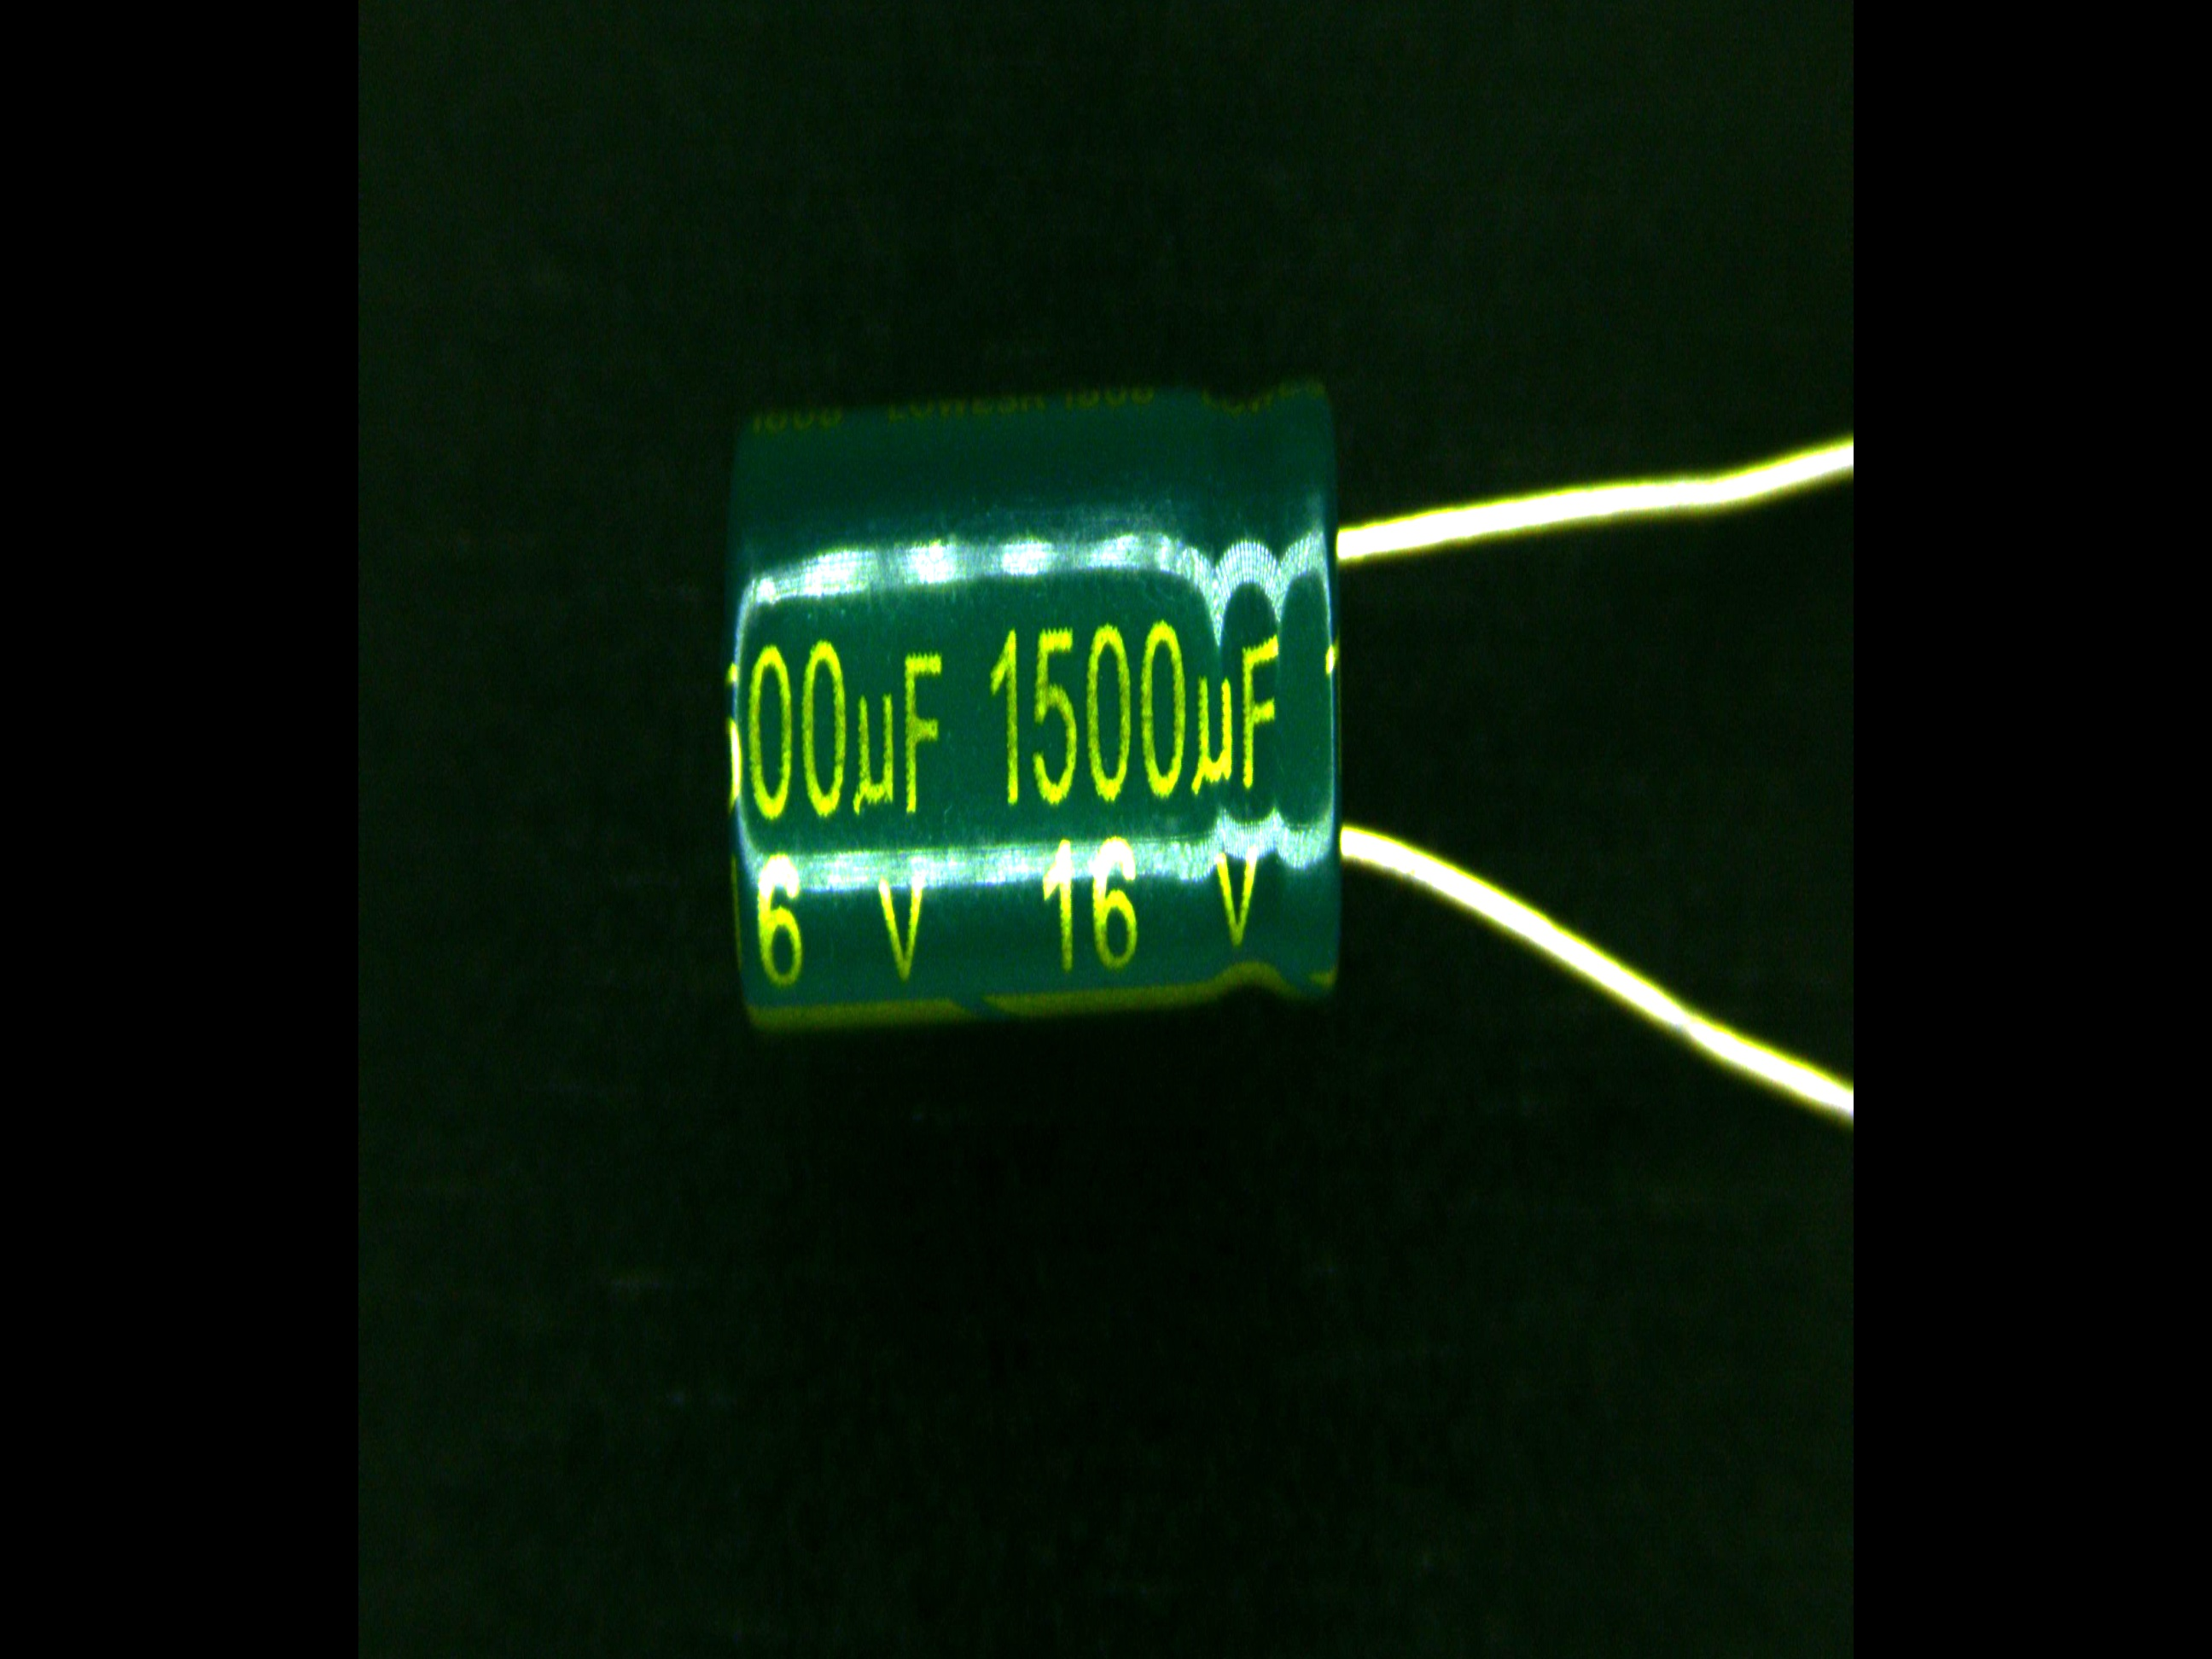c1: (721, 382, 1475, 1023)
